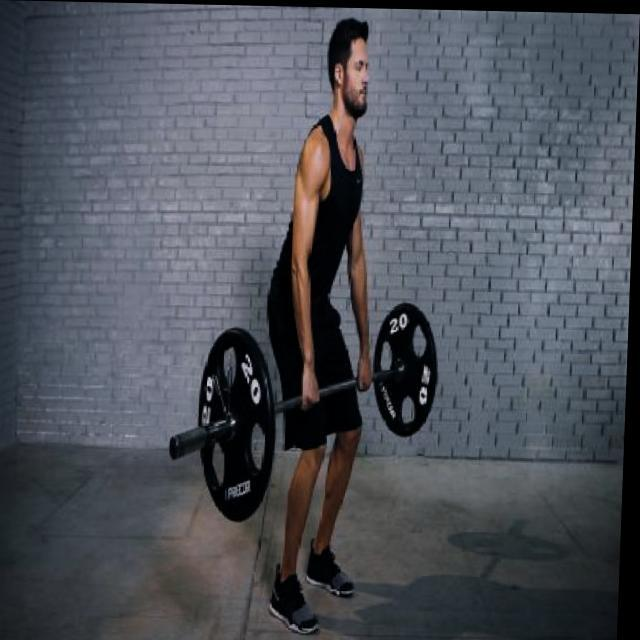barbell: (165, 320, 289, 528)
